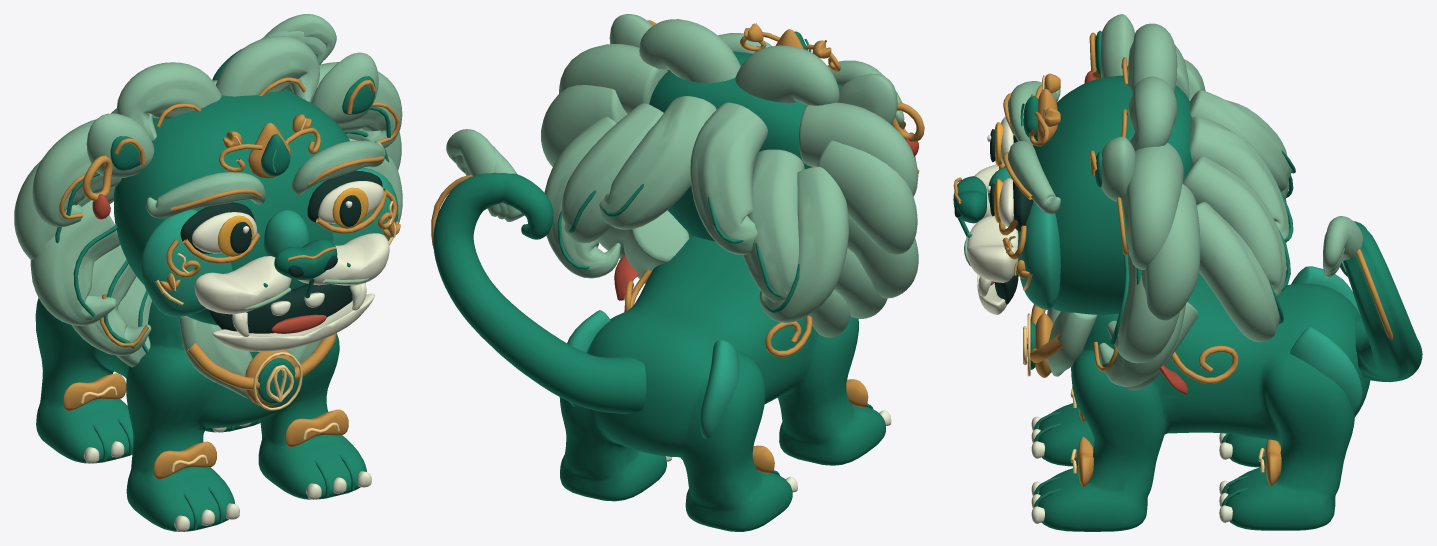
The picture shows the model from 3 angles, left to right: view 1: azimuth 30°, elevation 25°; view 2: azimuth 150°, elevation 25°; view 3: azimuth 270°, elevation 25°; orthographic projection. The views are drawn at different scales.
Parts seen in each view (by area): view 1: Emerald Lion Guardian; view 2: Emerald Lion Guardian; view 3: Emerald Lion Guardian.
Boxes of the visible parts, x1,y1,x2,y2 form: Emerald Lion Guardian: (14, 14, 402, 531); Emerald Lion Guardian: (431, 14, 924, 531); Emerald Lion Guardian: (953, 14, 1422, 531).
Bounding box in the file's own units: 3.72 × 3.8 × 3.77.
